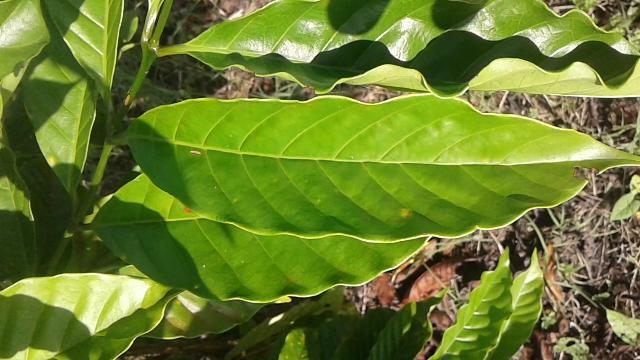rust_level_1: (128, 94, 638, 243)
